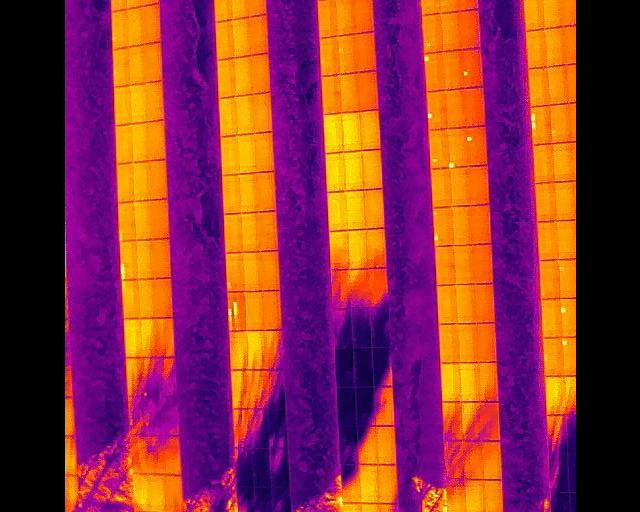Cell: (458, 50, 481, 90), (465, 127, 487, 166), (550, 104, 570, 144), (446, 127, 465, 168), (423, 52, 442, 92), (429, 129, 447, 169), (427, 91, 445, 130), (559, 297, 576, 337), (544, 338, 561, 377), (422, 15, 438, 53), (561, 337, 576, 376)
Cell-Multi: (432, 208, 452, 247), (530, 104, 550, 143), (226, 291, 243, 332)
No-Anomaly: (458, 88, 486, 127), (255, 251, 279, 292), (464, 165, 488, 205), (470, 284, 493, 323), (471, 323, 493, 363), (469, 244, 491, 284), (374, 425, 396, 464), (468, 206, 490, 245), (439, 362, 460, 402), (363, 189, 384, 229), (361, 150, 382, 190), (457, 12, 479, 50), (145, 160, 165, 201), (538, 258, 558, 299), (376, 464, 397, 503), (347, 230, 368, 269), (256, 212, 277, 251), (255, 172, 276, 211), (532, 144, 553, 183), (544, 375, 564, 415), (323, 112, 343, 152), (527, 67, 547, 107), (321, 76, 342, 114), (554, 182, 574, 221), (547, 66, 567, 105), (355, 33, 375, 72), (152, 239, 172, 278), (535, 183, 555, 222), (146, 120, 165, 161), (367, 228, 386, 268), (142, 41, 161, 81), (557, 259, 576, 299), (557, 220, 576, 260), (458, 362, 477, 402), (324, 152, 343, 192), (254, 133, 273, 173), (155, 318, 174, 358), (438, 12, 457, 51), (552, 143, 571, 182), (481, 441, 500, 480), (319, 36, 338, 75), (538, 221, 557, 260), (260, 291, 279, 330), (334, 0, 354, 37), (345, 189, 363, 230), (452, 244, 470, 285), (251, 92, 269, 133), (360, 112, 379, 150), (220, 176, 239, 214), (525, 30, 544, 68), (435, 285, 453, 325), (434, 245, 452, 285), (430, 168, 448, 208), (359, 464, 377, 504), (342, 112, 360, 152), (150, 200, 168, 240), (145, 82, 163, 122), (135, 239, 153, 279), (120, 279, 138, 319), (452, 284, 470, 324), (542, 298, 560, 338), (249, 54, 267, 94), (236, 134, 254, 174), (154, 278, 172, 318), (448, 168, 466, 207), (329, 230, 347, 269), (224, 253, 242, 292), (219, 136, 237, 175), (359, 71, 376, 112), (545, 28, 563, 66), (337, 36, 355, 74), (478, 363, 496, 401), (163, 474, 181, 512), (442, 51, 459, 91), (116, 162, 133, 202), (113, 85, 130, 125), (328, 191, 345, 231), (224, 214, 241, 254), (127, 6, 143, 48), (344, 151, 361, 190), (341, 74, 358, 113), (147, 473, 164, 512), (247, 16, 264, 55), (245, 331, 262, 370), (217, 59, 234, 98), (353, 0, 373, 33), (130, 83, 146, 124), (115, 123, 131, 164), (239, 173, 255, 214), (521, 0, 542, 31), (443, 89, 459, 129), (144, 3, 160, 43), (138, 278, 154, 318), (244, 291, 260, 331), (240, 213, 256, 253), (232, 19, 248, 59), (234, 55, 249, 97), (455, 324, 472, 361), (438, 324, 454, 363), (124, 319, 140, 358), (113, 48, 129, 87), (241, 253, 257, 292), (112, 11, 128, 49), (318, 0, 334, 38), (220, 98, 236, 136), (452, 206, 467, 246), (229, 370, 244, 410), (216, 20, 231, 60), (165, 435, 180, 475), (229, 334, 245, 371), (132, 160, 146, 202), (139, 319, 154, 358), (133, 201, 148, 240), (132, 473, 147, 512), (129, 46, 144, 85), (482, 480, 500, 512), (464, 480, 482, 512), (131, 122, 145, 163), (236, 95, 250, 135), (542, 0, 560, 29), (564, 26, 576, 64), (560, 0, 576, 26), (213, 0, 230, 22), (417, 0, 439, 15), (244, 0, 264, 16), (454, 0, 477, 12), (437, 0, 457, 13), (231, 0, 244, 20), (358, 502, 377, 512), (111, 0, 126, 11), (125, 0, 141, 9)
Shadowing: (548, 451, 569, 493), (350, 307, 371, 348), (263, 371, 285, 410), (371, 347, 392, 387), (353, 386, 374, 426), (248, 408, 269, 448), (373, 387, 393, 427), (356, 425, 376, 465), (339, 463, 359, 503), (249, 448, 268, 490), (441, 402, 461, 441), (546, 414, 566, 452), (479, 401, 498, 441), (144, 394, 162, 436), (268, 448, 286, 490), (352, 348, 371, 387), (330, 268, 349, 307), (460, 402, 479, 441), (126, 396, 144, 437), (443, 441, 462, 479), (368, 269, 387, 307), (333, 348, 352, 386), (371, 307, 389, 347), (339, 425, 357, 465), (337, 386, 355, 426), (262, 331, 280, 371), (349, 269, 368, 306), (463, 441, 481, 480), (245, 369, 263, 408), (332, 307, 349, 348), (233, 448, 250, 489), (268, 410, 286, 448), (130, 434, 147, 474), (139, 358, 157, 395), (157, 358, 175, 395), (162, 395, 178, 436), (148, 435, 164, 474), (231, 409, 247, 448), (446, 479, 464, 512), (124, 358, 139, 395), (236, 488, 255, 512), (550, 492, 572, 512), (272, 490, 291, 512), (255, 489, 272, 512), (342, 502, 361, 512), (377, 504, 400, 512)
Unclassified: (117, 202, 132, 241), (120, 241, 134, 281)
